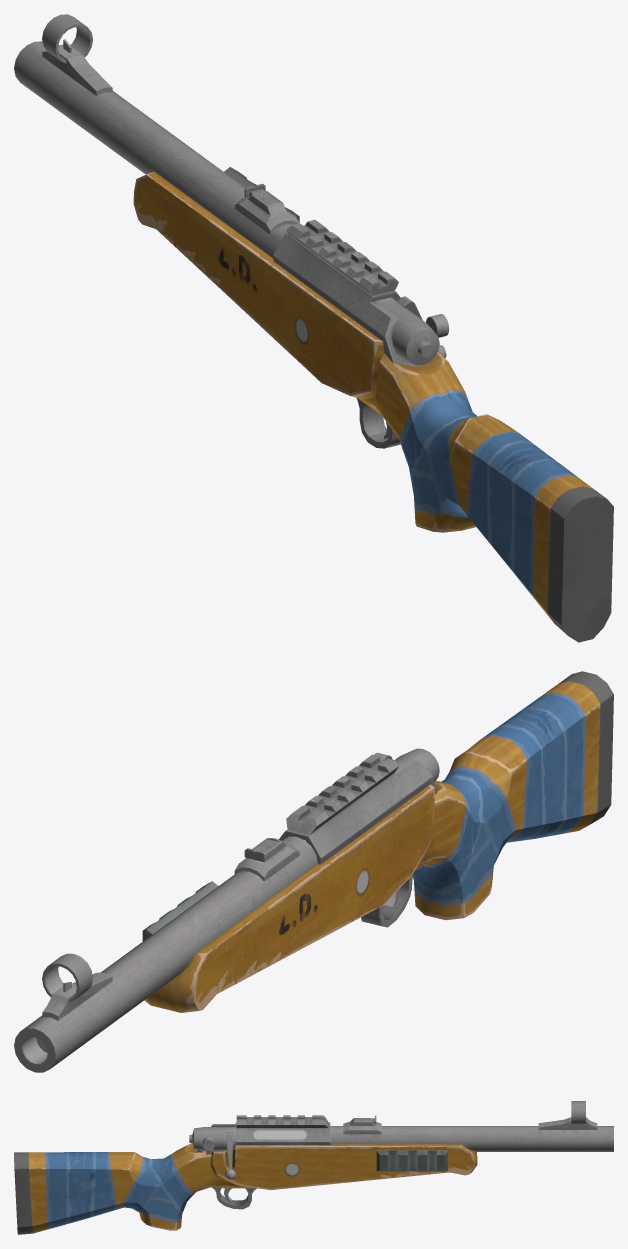
The model's file is IG_Gun_VPO_Deng.fbx.
3 renders of one model, top to bottom at view 1: azimuth 30°, elevation 25°; view 2: azimuth 150°, elevation 25°; view 3: azimuth 270°, elevation 25°, orthographic. The views are drawn at different scales.
Visible parts, largest first — view 1: Pfb_WPN_VPO215_02; view 2: Pfb_WPN_VPO215_02, ShowIf_Tec; view 3: Pfb_WPN_VPO215_02, ShowIf_Tec.
Part boxes in pixels (<box>): Pfb_WPN_VPO215_02: <box>14,14,613,642</box>; Pfb_WPN_VPO215_02: <box>14,671,613,1072</box>; ShowIf_Tec: <box>142,881,218,941</box>; Pfb_WPN_VPO215_02: <box>14,1101,613,1234</box>; ShowIf_Tec: <box>376,1150,447,1171</box>.
Size of the model in its own units: 0.1261 by 0.3374 by 1.4.
